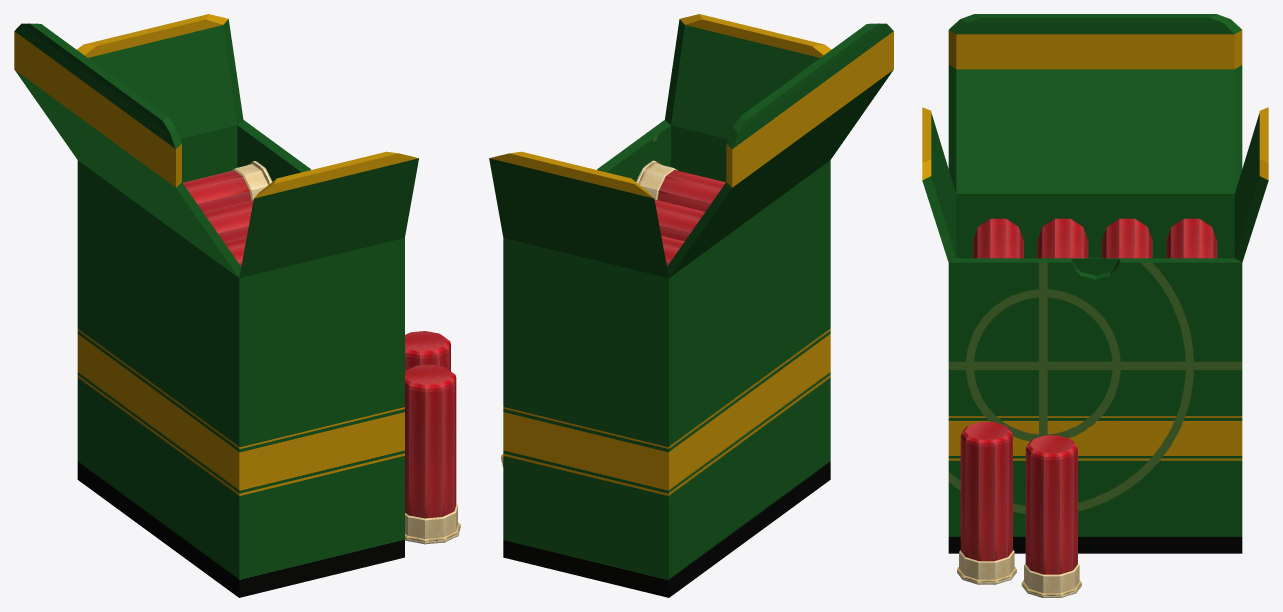
Rendered from shotgun_shell.fbx.
3 renders of one model, left to right at view 1: azimuth 30°, elevation 25°; view 2: azimuth 150°, elevation 25°; view 3: azimuth 270°, elevation 25°, orthographic. The views are drawn at different scales.
Parts seen in each view (by area): view 1: Box, Ammo, Ammo.001, Ammo.002; view 2: Box, Ammo.001; view 3: Box, Ammo, Ammo.002, Ammo.001.
Part boxes in pixels (x1,y1,x2,y2): Box: (14,14,418,597); Ammo: (405,364,460,544); Ammo.001: (183,161,272,266); Ammo.002: (405,331,450,370); Box: (489,14,893,597); Ammo.001: (636,160,725,266); Box: (922,14,1268,553); Ammo: (957,422,1016,584); Ammo.002: (1021,435,1081,597); Ammo.001: (973,218,1217,258).
Size of the model in its own units: 778 by 1082 by 775.
